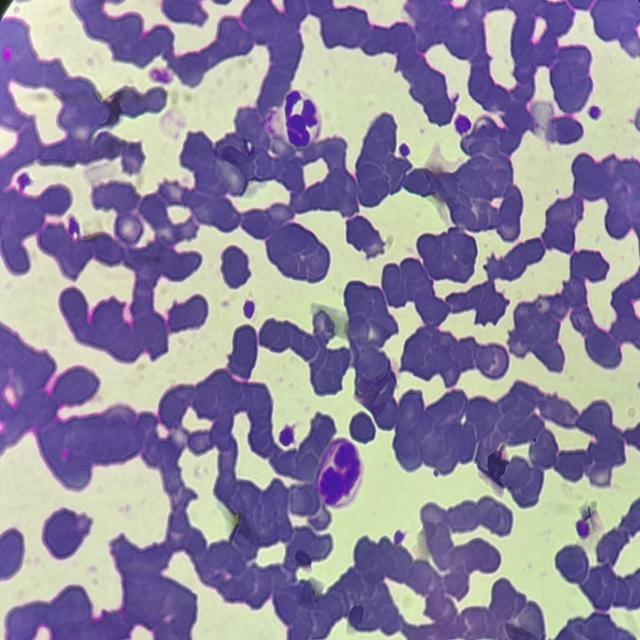Neutrofilo: (313, 435, 365, 505), (281, 90, 321, 149)
